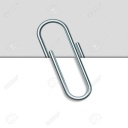Metal: (30, 12, 99, 102)
